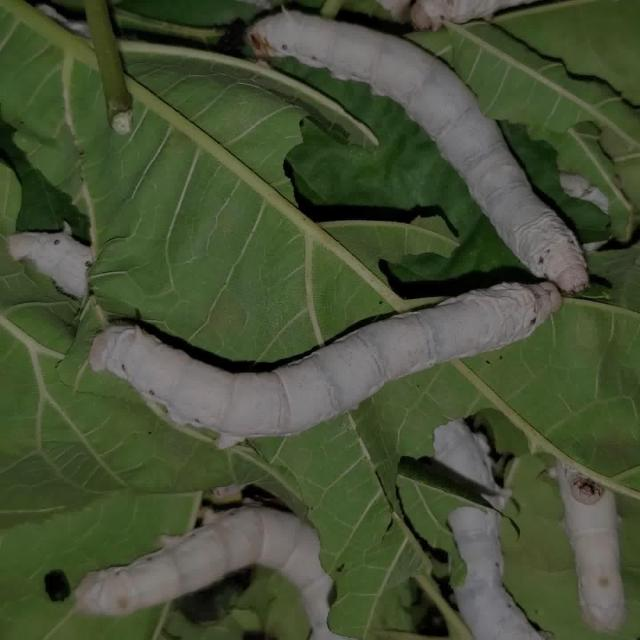Healthy: (62, 0, 597, 449)
